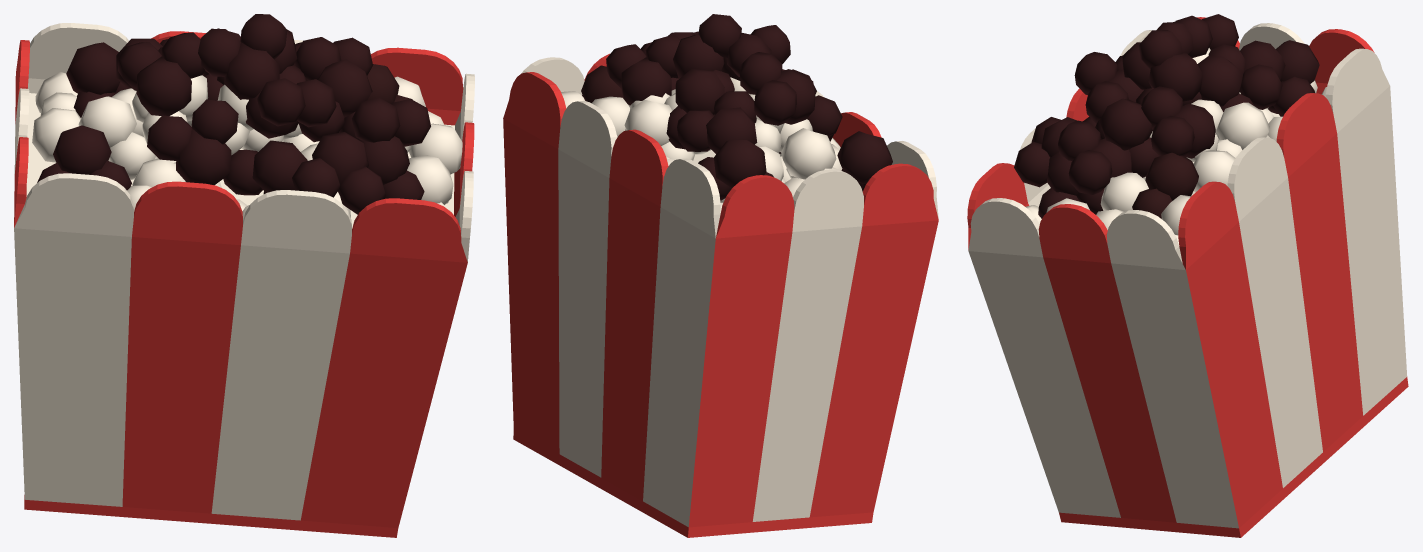
The model's file is popcorn.glb.
3 views of the same model, side by side, from view 1: azimuth 30°, elevation 25°; view 2: azimuth 150°, elevation 25°; view 3: azimuth 270°, elevation 25° (orthographic). The views are drawn at different scales.
Visible parts, largest first — view 1: Cube.416; view 2: Cube.416; view 3: Cube.416.
Boxes of the visible parts, box(x1,y1,x2,y2) form: Cube.416: box(14, 14, 474, 537); Cube.416: box(503, 14, 938, 537); Cube.416: box(967, 14, 1408, 537).
Size of the model in its own units: 2.01 by 2.07 by 1.82.
1 material, 1 textured.
